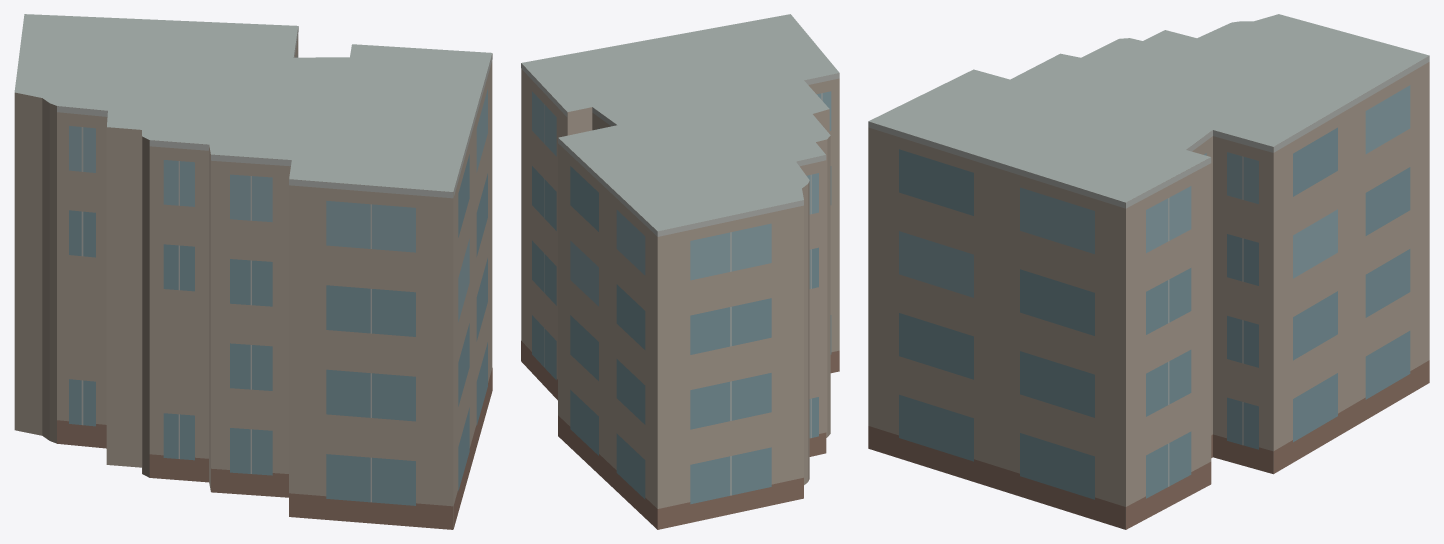
The model's file is survey-upis-32630788.glb.
3 renders of one model, left to right at view 1: azimuth 30°, elevation 25°; view 2: azimuth 150°, elevation 25°; view 3: azimuth 270°, elevation 25°, orthographic. The views are drawn at different scales.
Parts seen in each view (by area): view 1: survey-upis-32630788.tmp; view 2: survey-upis-32630788.tmp; view 3: survey-upis-32630788.tmp.
Part boxes in pixels (left/top/right/bottom): survey-upis-32630788.tmp: left=14, top=14, right=492, bottom=529; survey-upis-32630788.tmp: left=521, top=14, right=839, bottom=529; survey-upis-32630788.tmp: left=868, top=14, right=1429, bottom=529.
Bounding box in the file's own units: 16.33 × 13.2 × 20.53.
